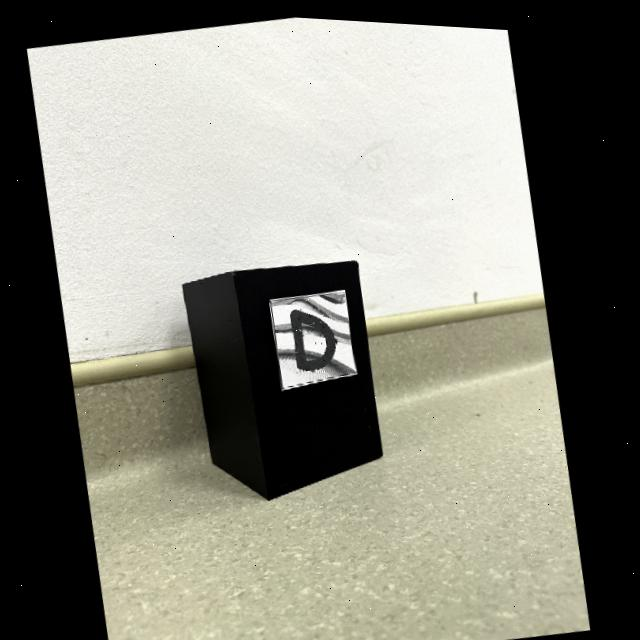D: (293, 306, 339, 367)
